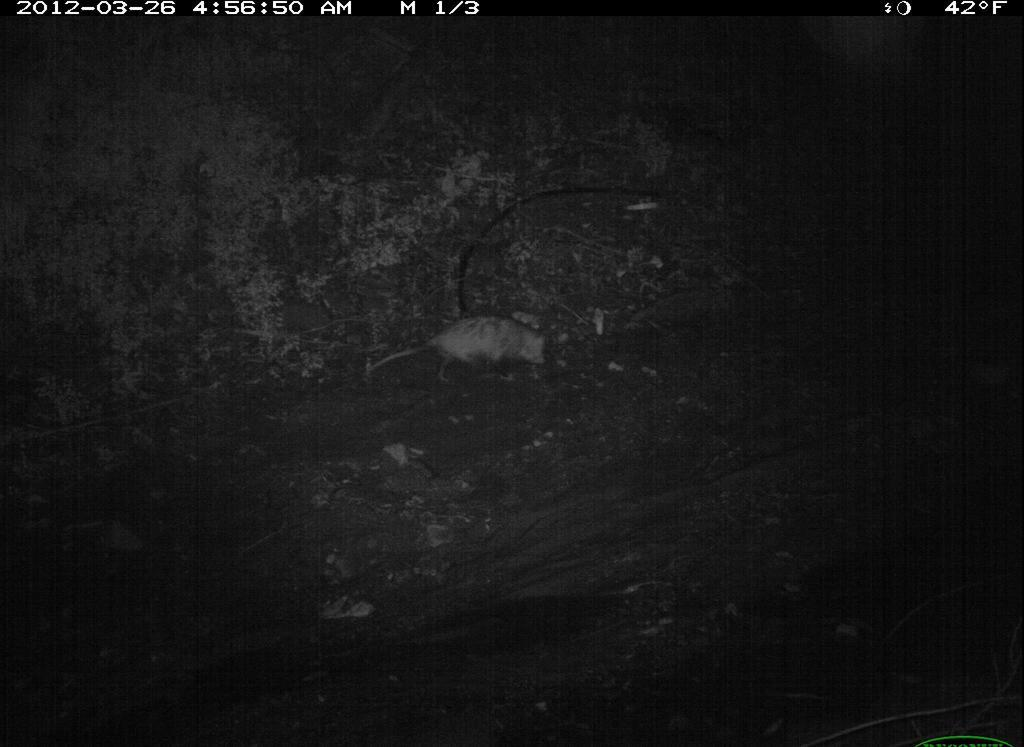opossum: (361, 313, 566, 393)
